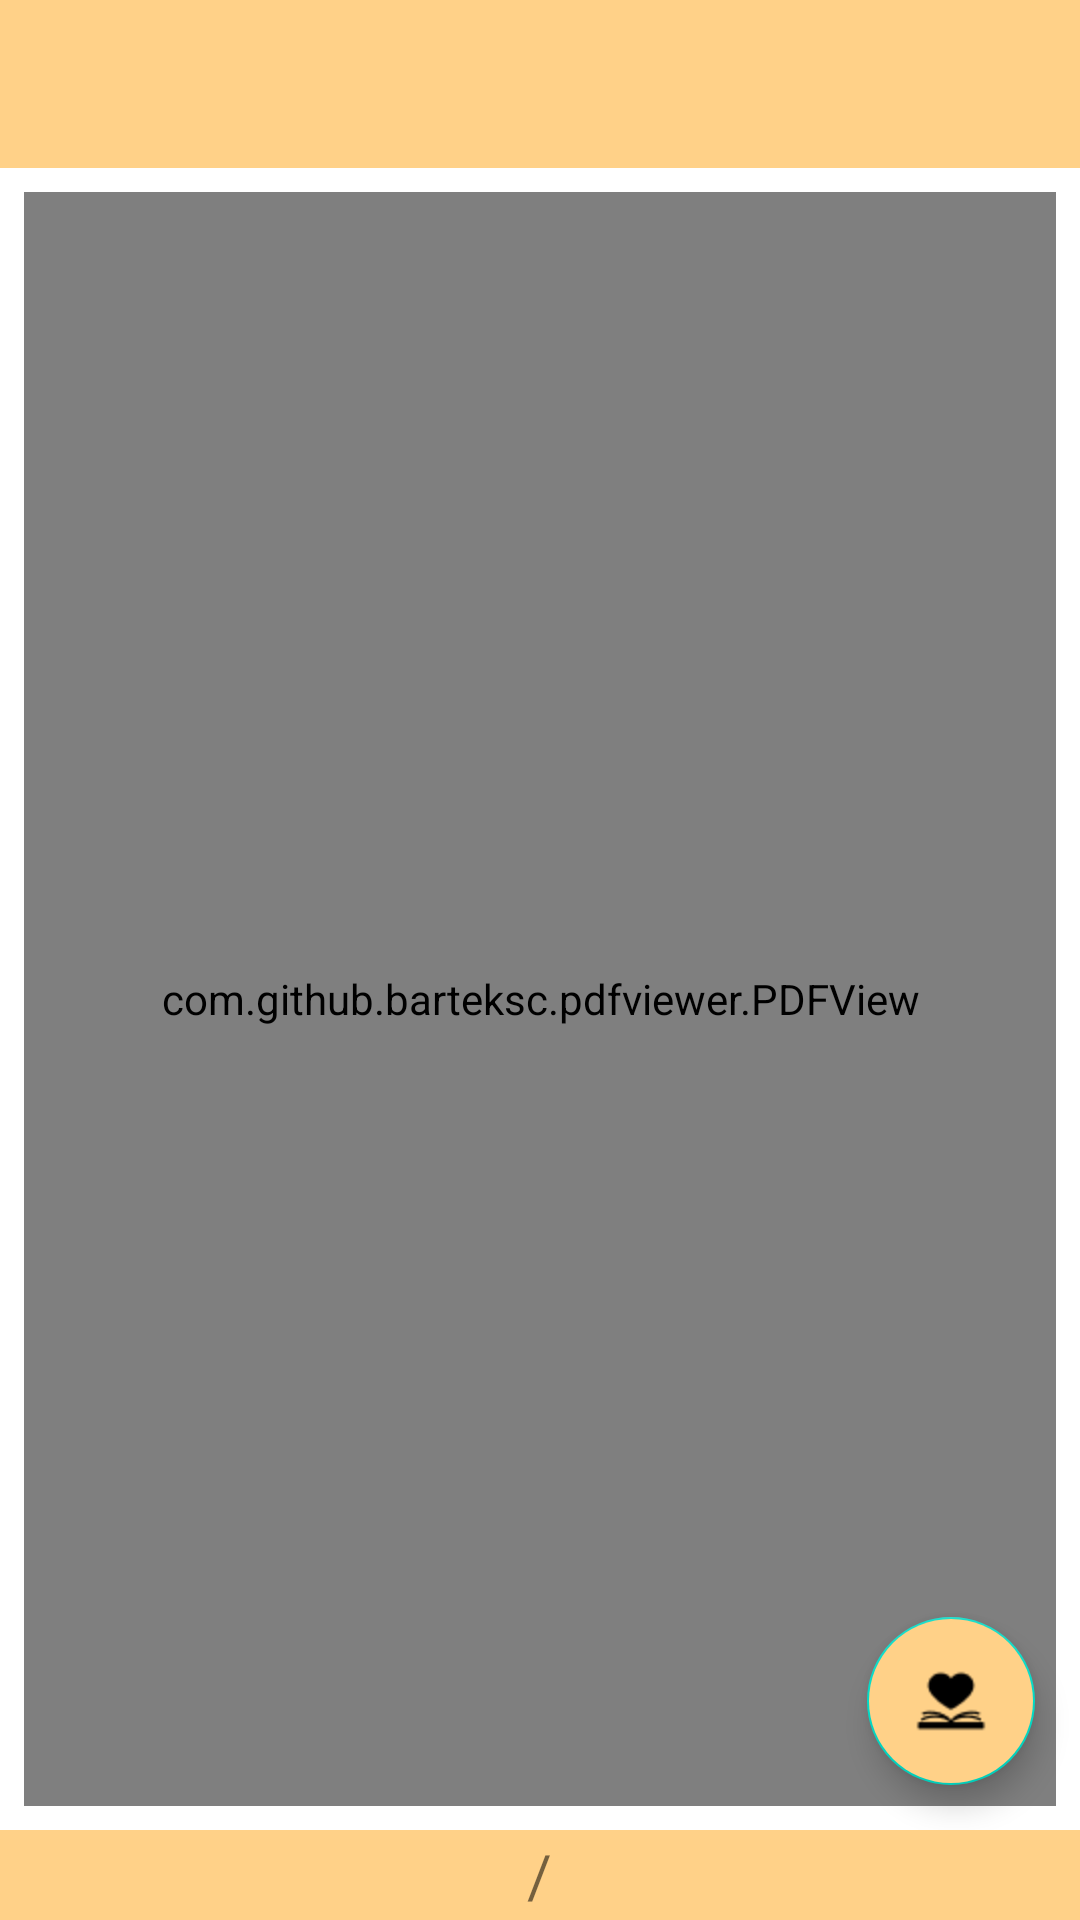

Point at icon controls on the screen. Image size 1080 x 1920, points as (x,y).
yeuthich: (951,1701)
